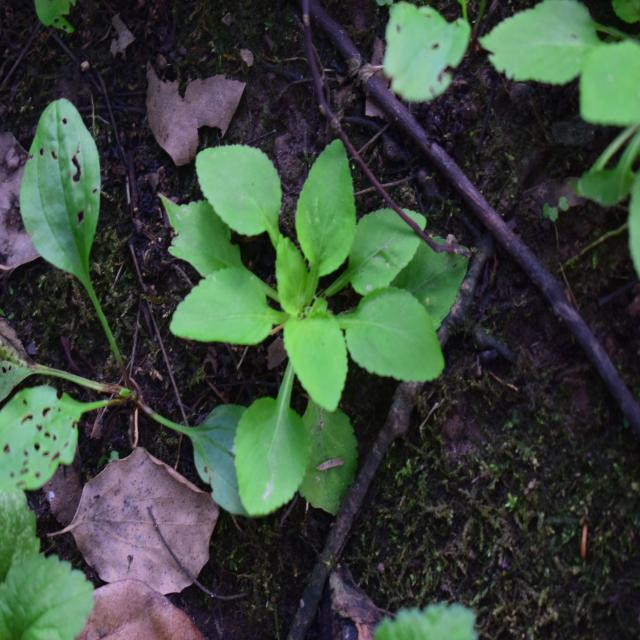Viola: (160, 147, 462, 480)
